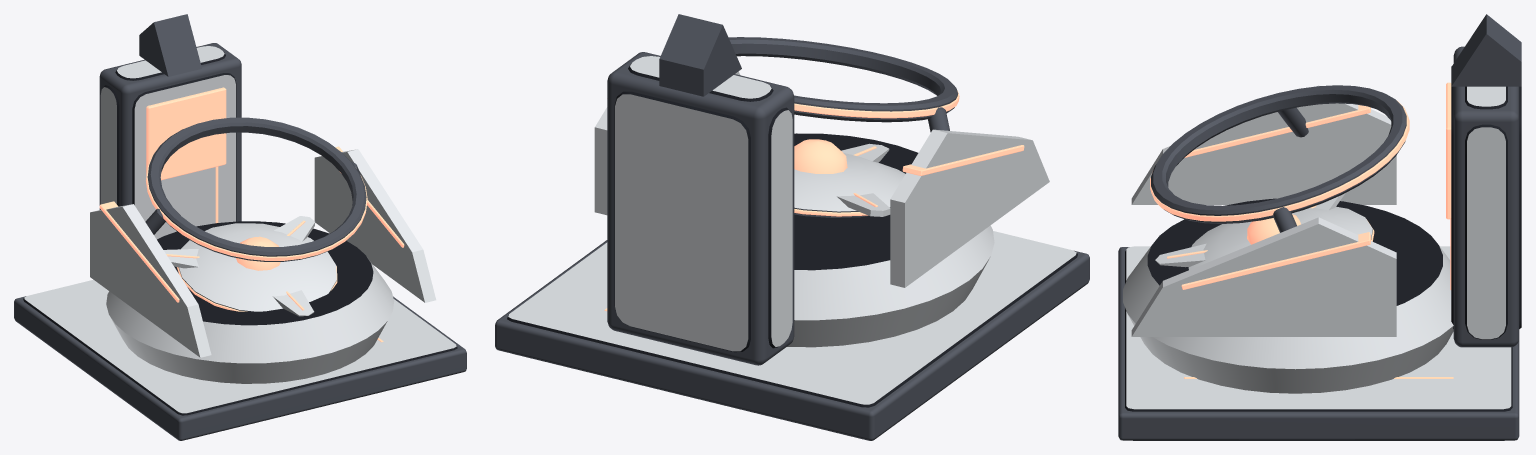
The model's file is R4X_ExplosiveTrapDeployer.fbx.
3 renders of one model, left to right at view 1: azimuth 30°, elevation 25°; view 2: azimuth 150°, elevation 25°; view 3: azimuth 270°, elevation 25°, orthographic. The views are drawn at different scales.
Parts seen in each view (by area): view 1: R4X_ExplosiveTrapDeployer_Body, R4X_ExplosiveTrapDeployer_Payload; view 2: R4X_ExplosiveTrapDeployer_Body, R4X_ExplosiveTrapDeployer_Payload; view 3: R4X_ExplosiveTrapDeployer_Body, R4X_ExplosiveTrapDeployer_Payload.
Part boxes in pixels (box(x1,y1,x2,y2)): R4X_ExplosiveTrapDeployer_Body: box(14, 14, 466, 440); R4X_ExplosiveTrapDeployer_Payload: box(163, 216, 337, 316); R4X_ExplosiveTrapDeployer_Body: box(495, 14, 1089, 440); R4X_ExplosiveTrapDeployer_Payload: box(794, 139, 905, 217); R4X_ExplosiveTrapDeployer_Body: box(1118, 14, 1521, 440); R4X_ExplosiveTrapDeployer_Payload: box(1155, 193, 1374, 269).
Size of the model in its own units: 0.514 by 0.475 by 0.517.
